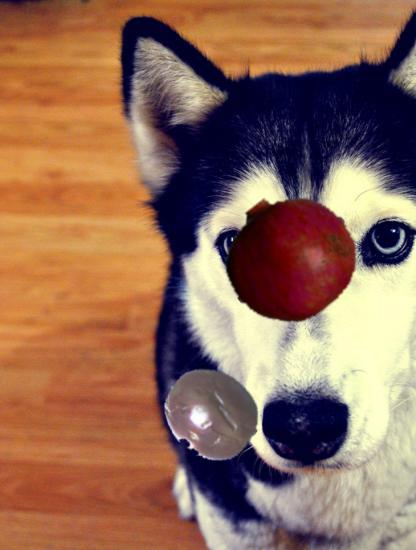Passion: (161, 364, 261, 464)
Pomegranate: (223, 191, 355, 323)
